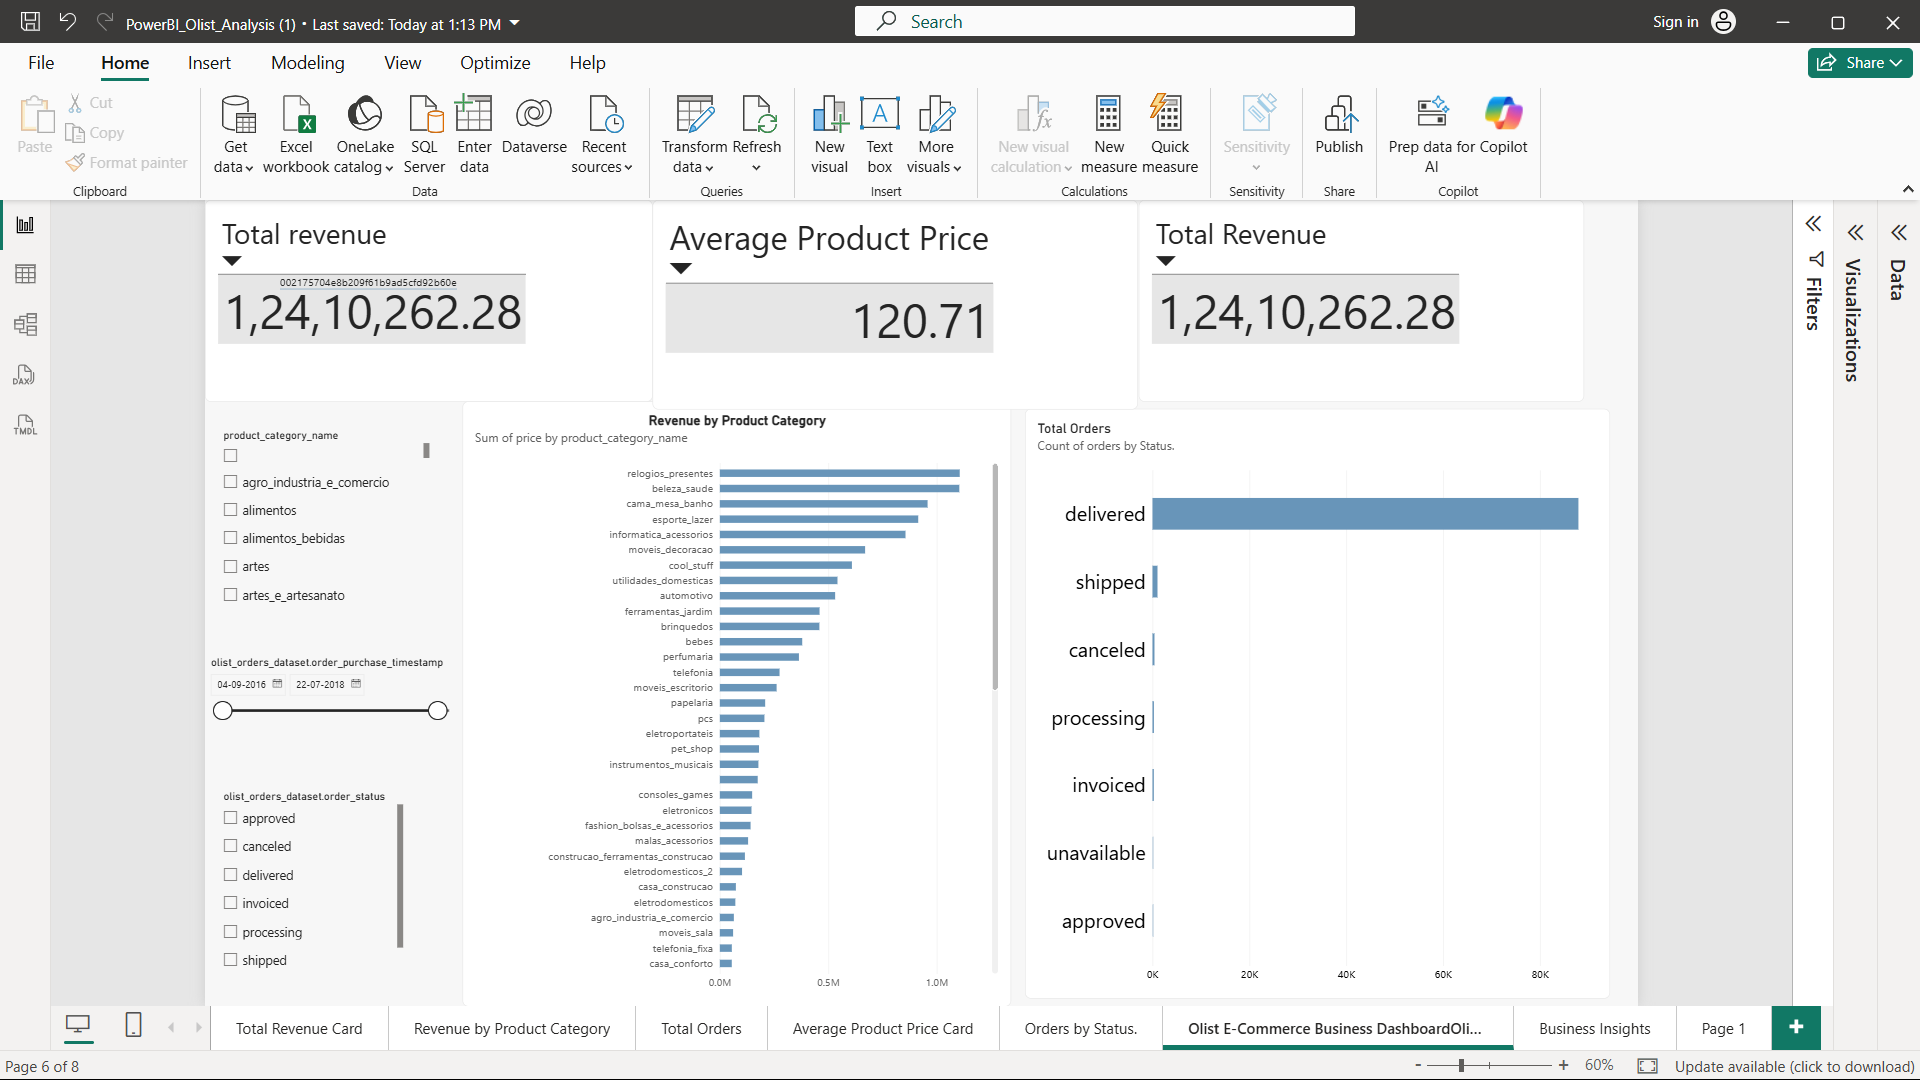

What the dashboard file says about the page in this screenshot:
{"tool":"powerbi","page":{"name":"Olist E-Commerce Business DashboardOlist E-Commerce Business Olist E-Commerce Business Dashboard","canvas":[1920,1080],"ordinal":5},"visuals":[{"type":"clusteredBarChart","title":"Revenue by Product Category","fields":{"Category":["Sales_Data.product_category_name"],"Y":["Sum(Sales_Data.price)"]},"box":[345.8,269.6,734.8,811],"z":1},{"type":"clusteredBarChart","title":"Total Orders","fields":{"Category":["Sales_Data.olist_orders_dataset.order_status"],"Y":["Count(Sales_Data.order_id)"]},"box":[1099.1,279.9,784.2,790.4],"z":4},{"type":"tableEx","fields":{"Values":["Sum(Sales_Data.price)"]},"box":[0,0,600,270.3],"z":9},{"type":"tableEx","fields":{"Values":["Avg(Sales_Data.price)"]},"box":[600,0,650.6,280.8],"z":10},{"type":"tableEx","fields":{"Values":["Sum(Sales_Data.price)"]},"box":[1250.6,0,596.5,270.3],"z":11},{"type":"textbox","box":[100,100,300,300],"z":12},{"type":"textbox","box":[100,100,300,300],"z":13},{"type":"slicer","fields":{"Values":["Sales_Data.product_category_name"]},"box":[16.5,306.7,284,232.6],"z":14},{"type":"slicer","fields":{"Values":["Sales_Data.olist_orders_dataset.order_status"]},"box":[16.5,790.4,249.1,244.9],"z":15},{"type":"slicer","fields":{"Values":["Sales_Data.olist_orders_dataset.order_purchase_timestamp"]},"box":[0,611.3,345.8,158.5],"z":16}]}

Visuals, with their boxes on the page's 1920x1080 design canvas (x1, y1, x2, y2). These are canvas units, not pixel positions in the 1920x1080 screenshot, which may show the page scaled, cropped or inside an application window:
"Revenue by Product Category" clusteredBarChart: select_region(346, 270, 1081, 1081)
"Total Orders" clusteredBarChart: select_region(1099, 280, 1883, 1070)
tableEx - Sum(Sales_Data.price): select_region(0, 0, 600, 270)
tableEx - Avg(Sales_Data.price): select_region(600, 0, 1251, 281)
tableEx - Sum(Sales_Data.price): select_region(1251, 0, 1847, 270)
textbox: select_region(100, 100, 400, 400)
textbox: select_region(100, 100, 400, 400)
slicer - Sales_Data.product_category_name: select_region(16, 307, 300, 539)
slicer - Sales_Data.olist_orders_dataset.order_status: select_region(16, 790, 266, 1035)
slicer - Sales_Data.olist_orders_dataset.order_purchase_timestamp: select_region(0, 611, 346, 770)
